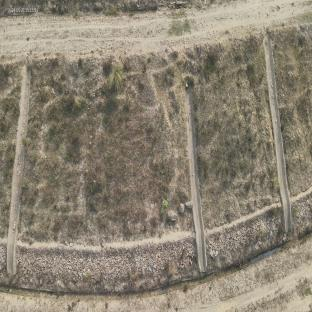rock_toe: (15, 243, 196, 285), (207, 209, 283, 268), (293, 193, 312, 228)
slope_drain: (264, 33, 294, 235), (6, 67, 31, 277), (184, 79, 207, 275)
toe_drain: (0, 228, 312, 300)
